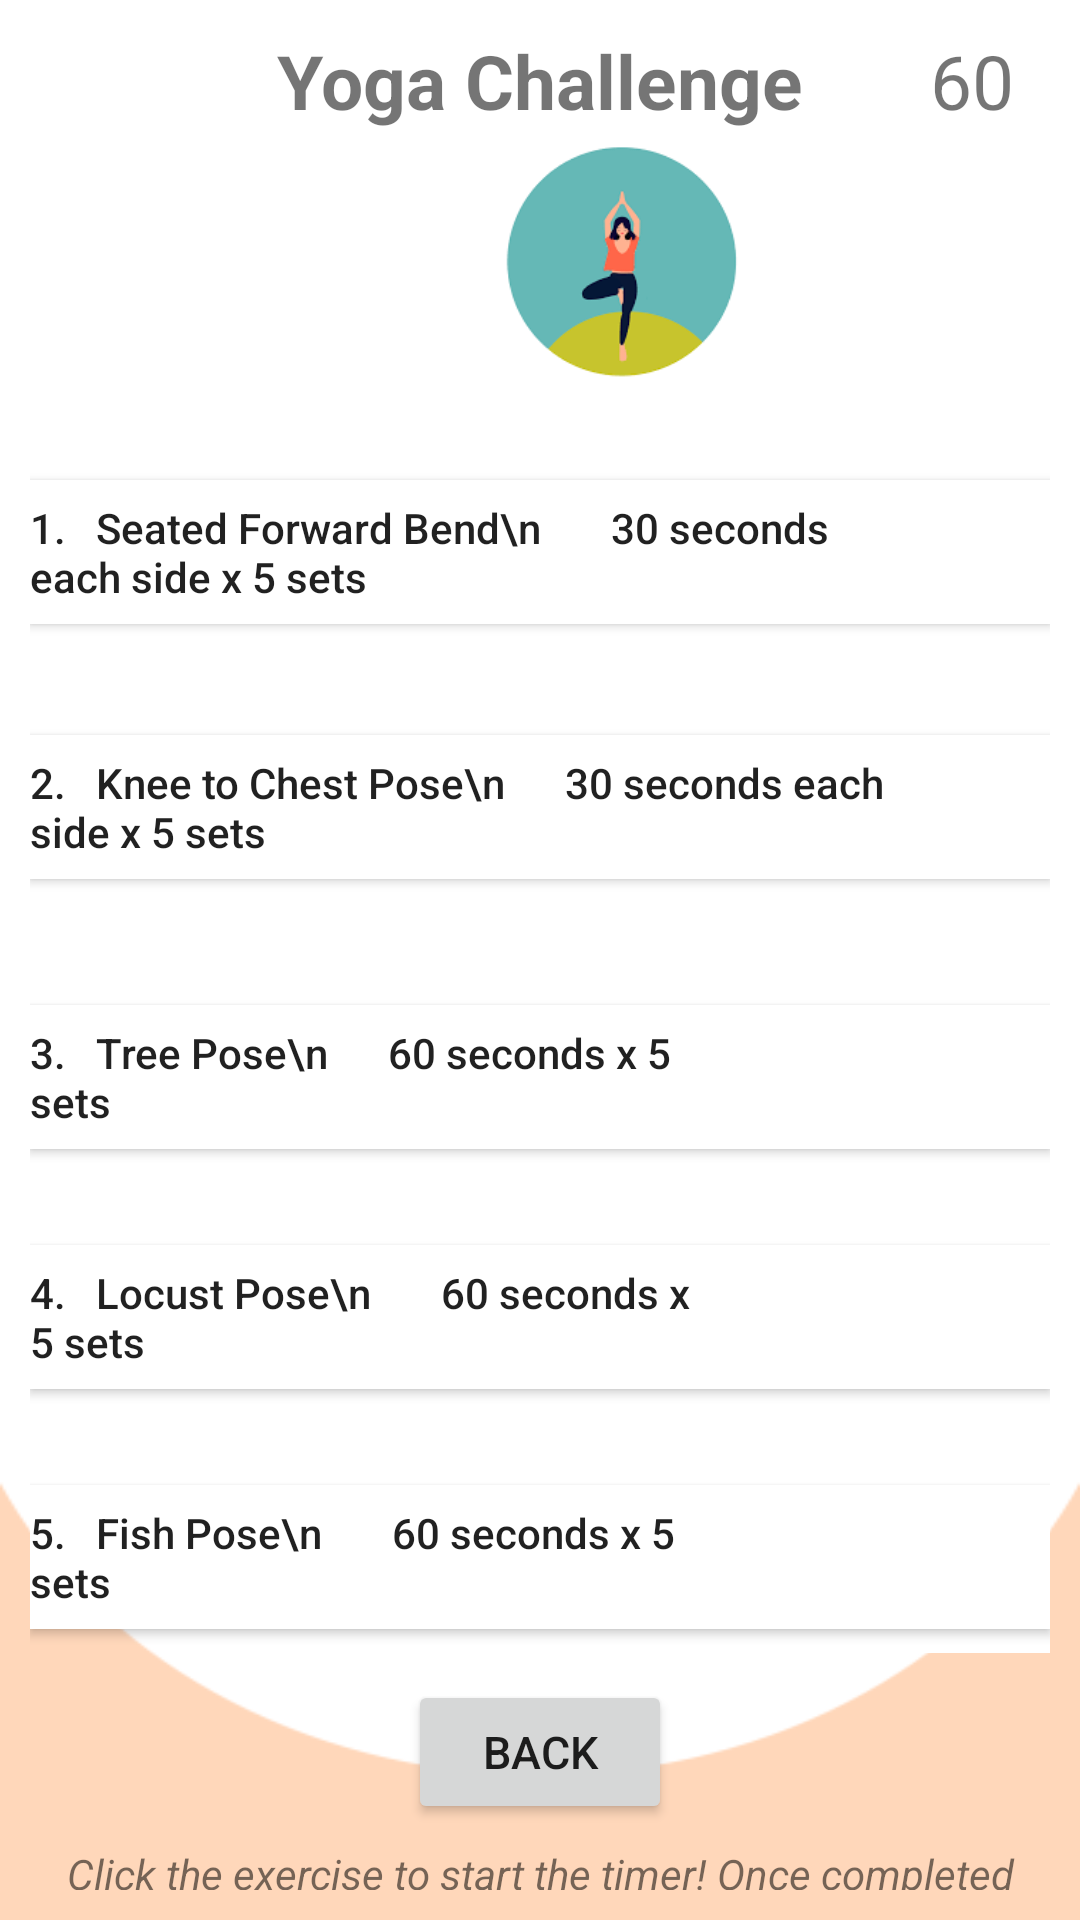

Named icons in this screenshot (1080 x 1920) and their bounding boxes, (x1, y1, x2, y2):
yogaheader: (506, 147, 736, 377)
